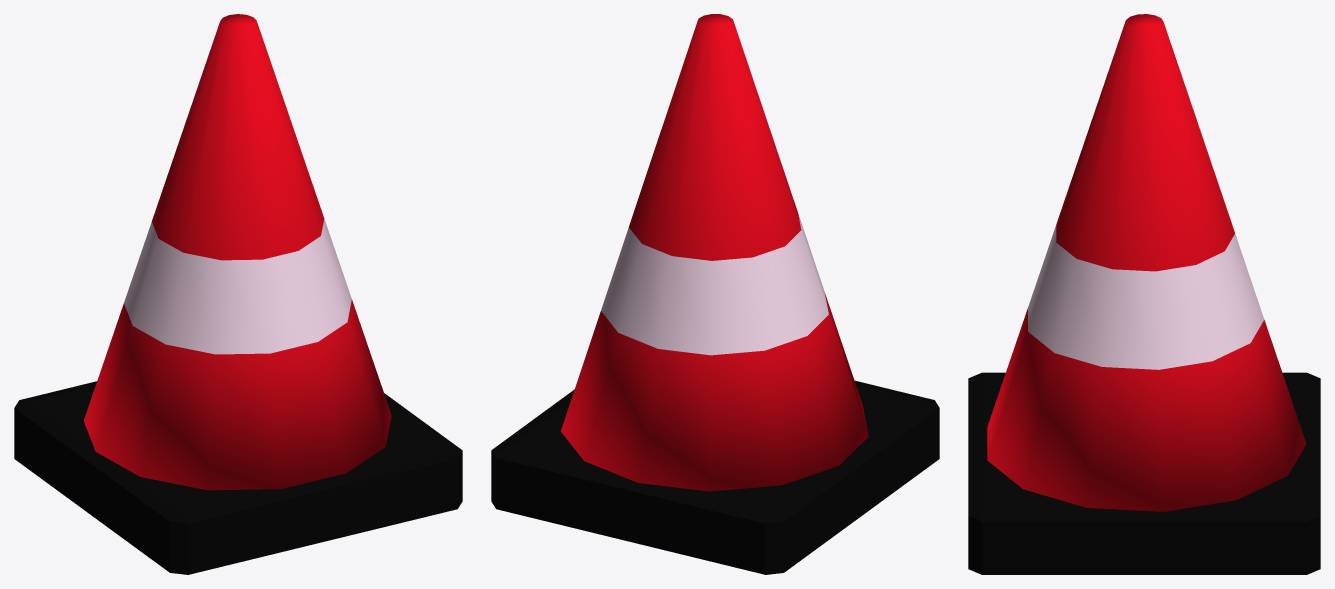
3 renders of one model, left to right at view 1: azimuth 30°, elevation 25°; view 2: azimuth 150°, elevation 25°; view 3: azimuth 270°, elevation 25°, orthographic. The views are drawn at different scales.
Parts seen in each view (by area): view 1: Cylinder; view 2: Cylinder; view 3: Cylinder.
Part boxes in pixels (x1,y1,x2,y2): Cylinder: (14, 14, 462, 574); Cylinder: (491, 14, 939, 574); Cylinder: (968, 14, 1320, 574).
Size of the model in its own units: 207 by 311 by 207.
